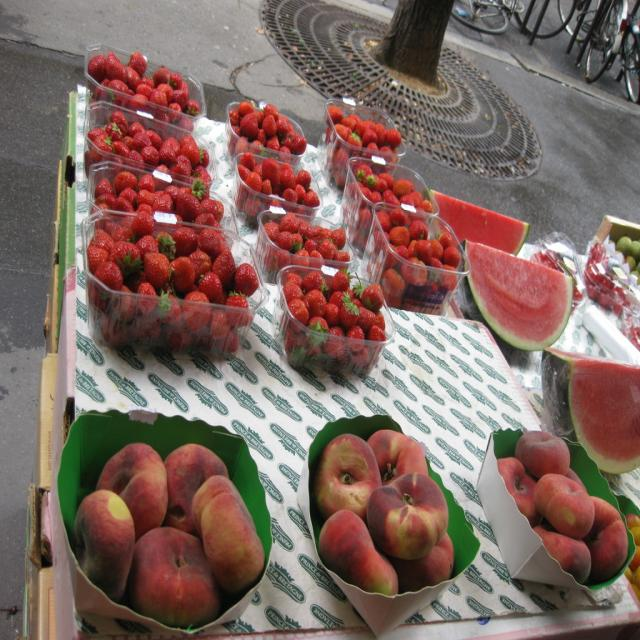Healty Apple: (496, 428, 629, 583), (130, 522, 221, 628), (191, 476, 266, 595), (366, 469, 449, 562), (72, 488, 136, 603), (95, 441, 168, 538), (164, 442, 229, 538), (312, 433, 384, 518), (325, 516, 385, 590), (392, 531, 453, 588), (366, 428, 429, 482)
